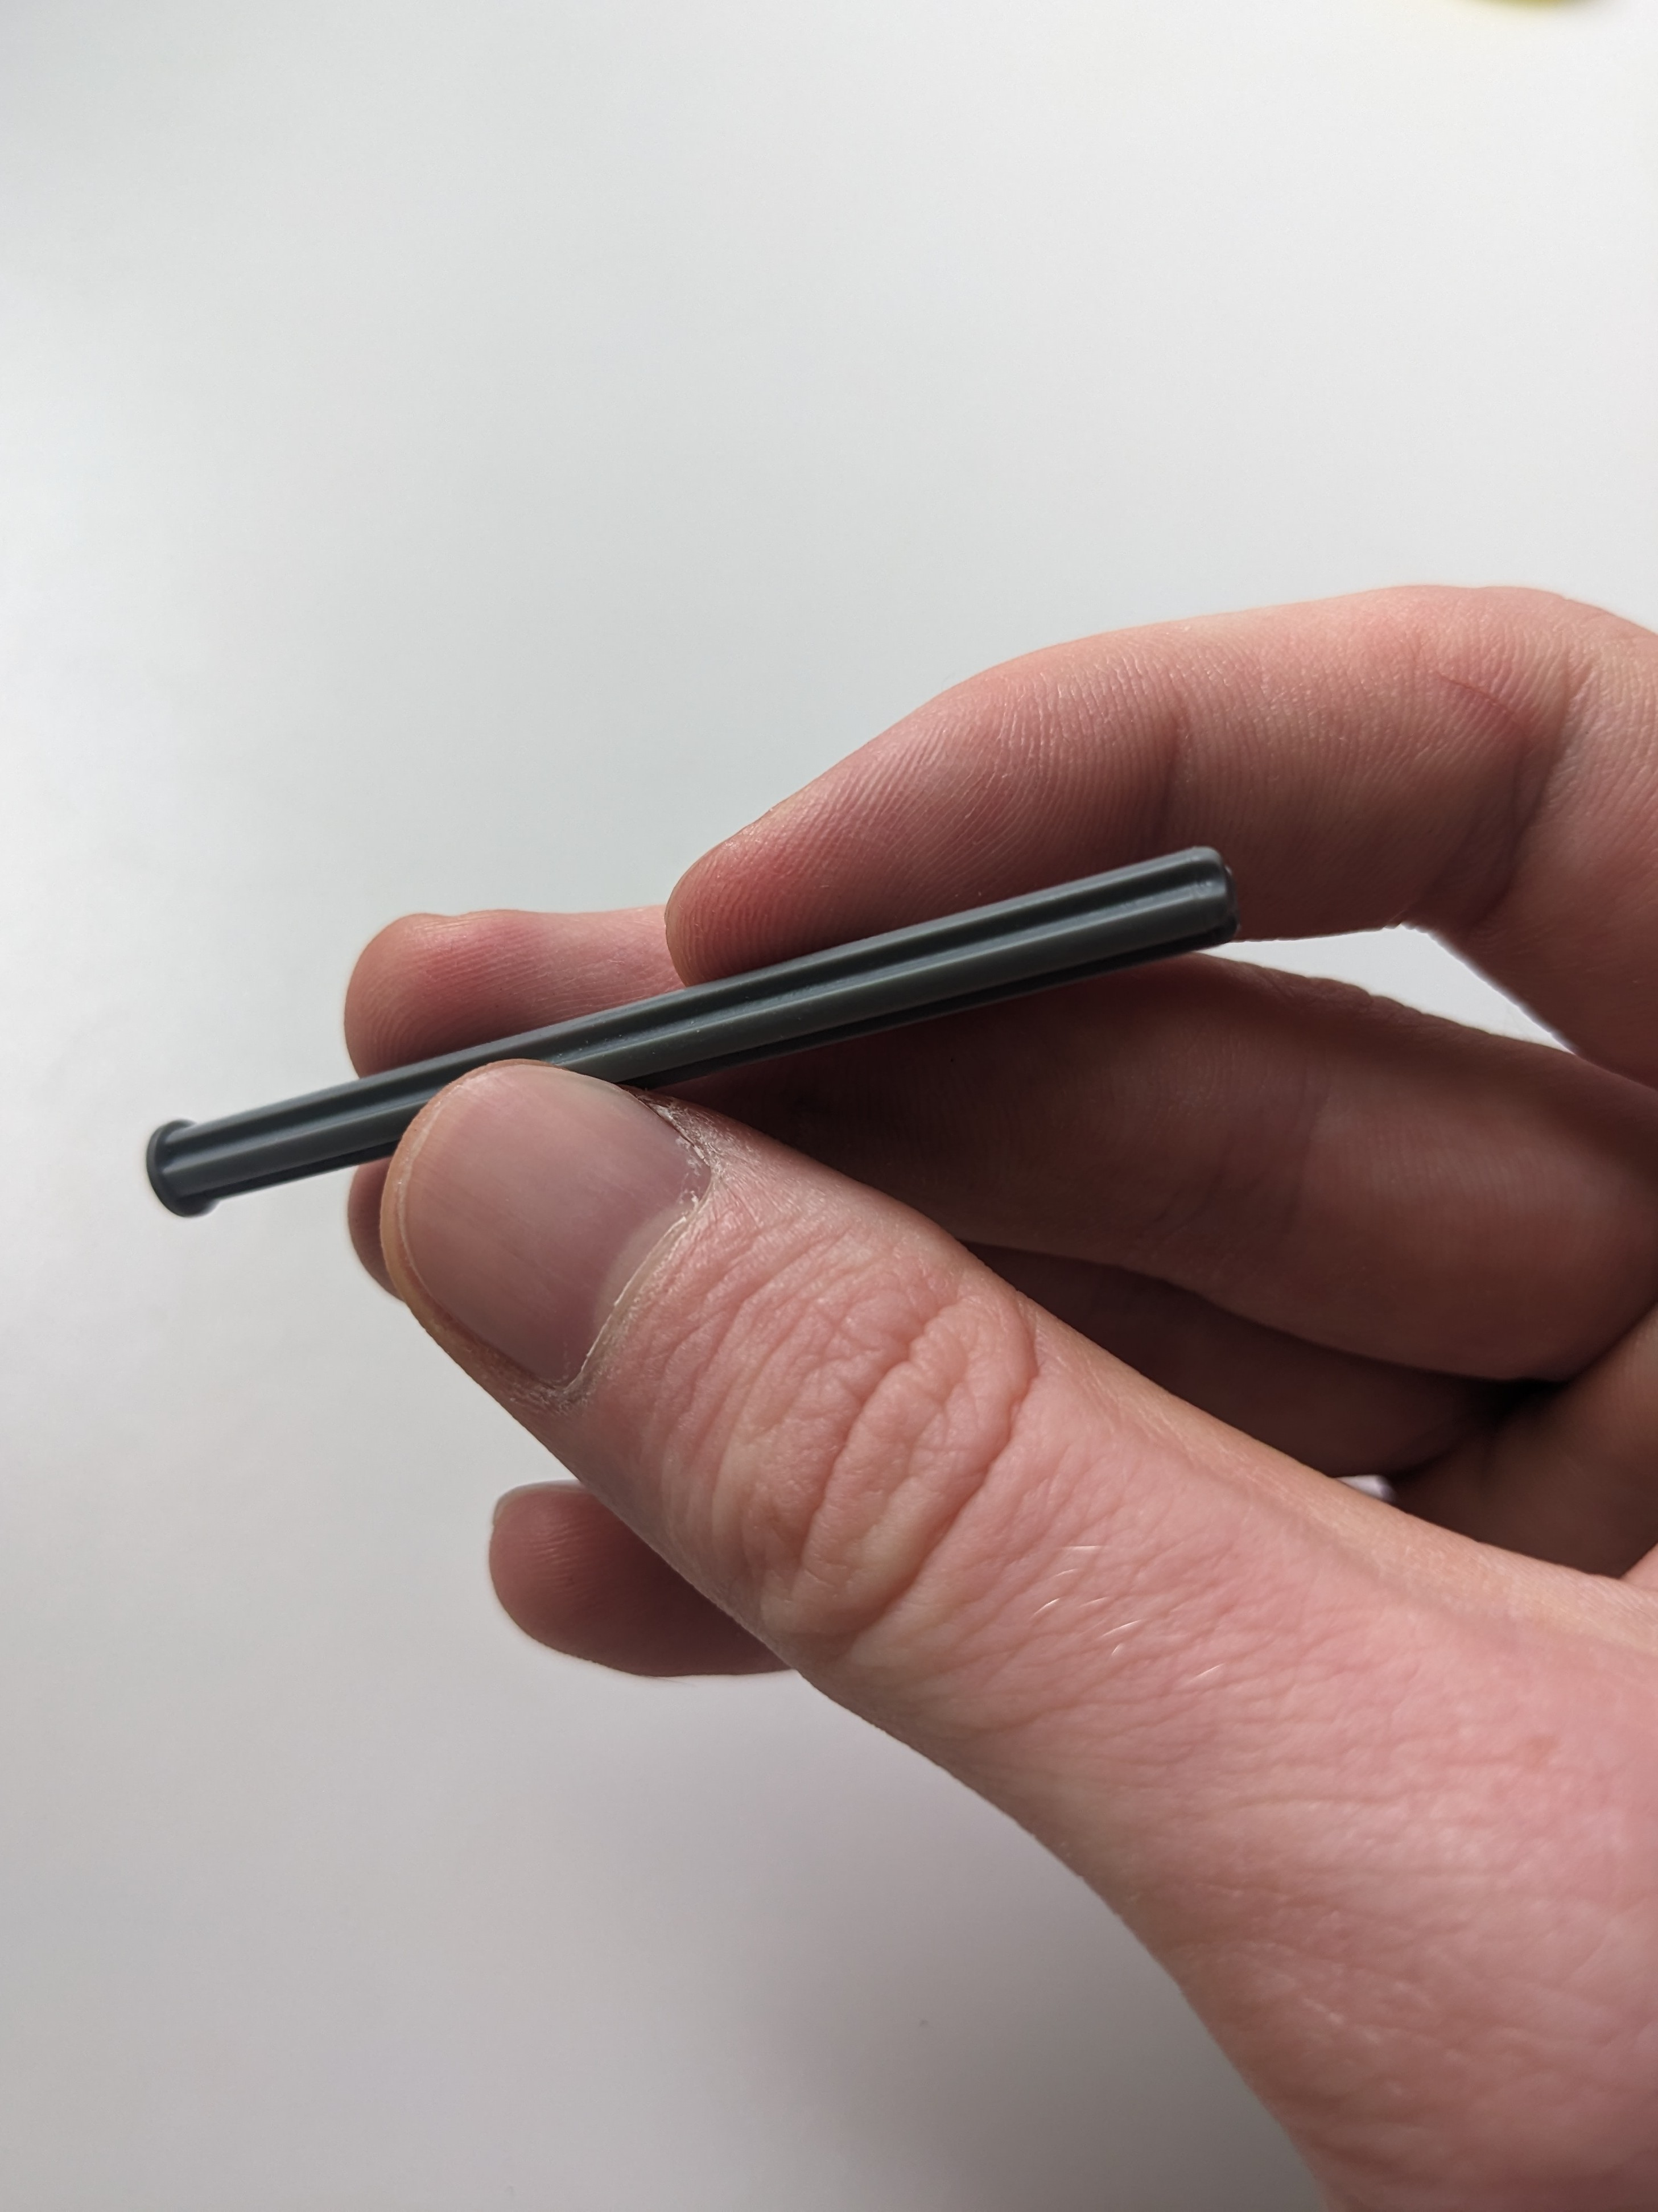Grau_lang: (106, 815, 1275, 1226)
